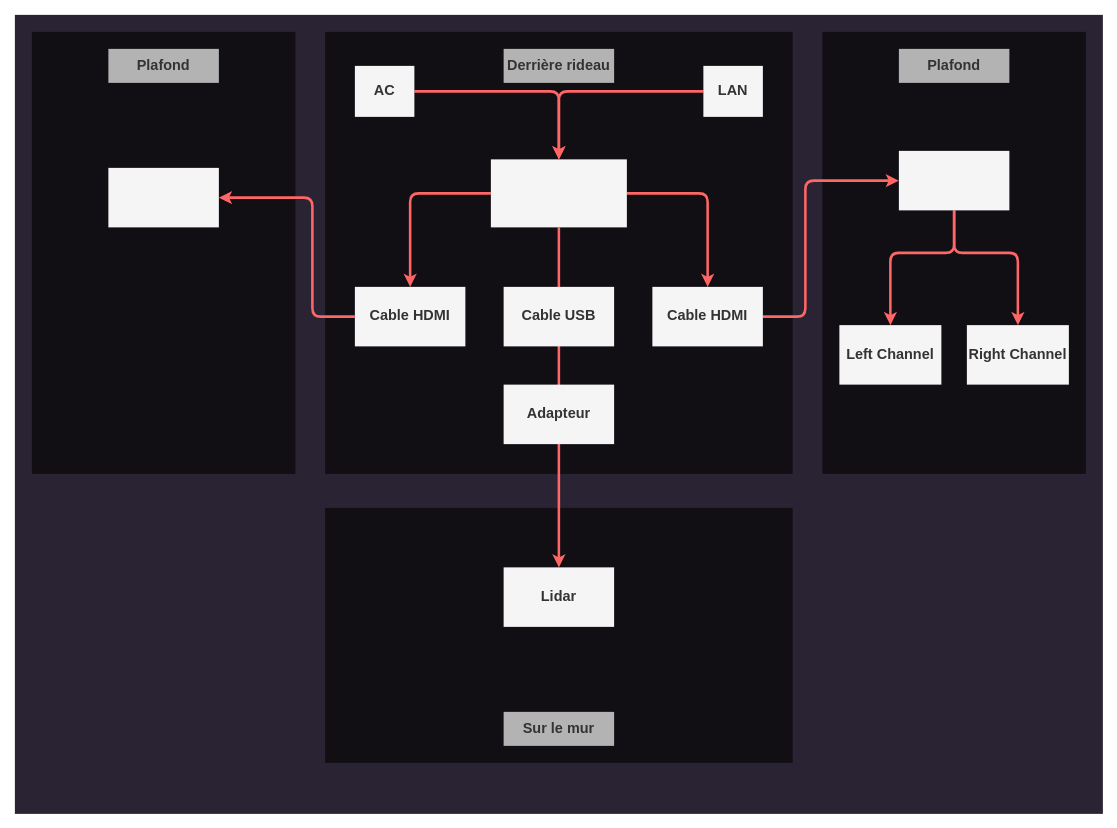
Image size: 1117x828. Some labels were removed from this diagram. Here are the shapes that lost their labels. From the top down, the box of each, then its label:
(108, 167, 218, 227): Projecteur Vidéo
(490, 159, 626, 227): Ordinateur
(898, 150, 1009, 210): 2x Speakers
